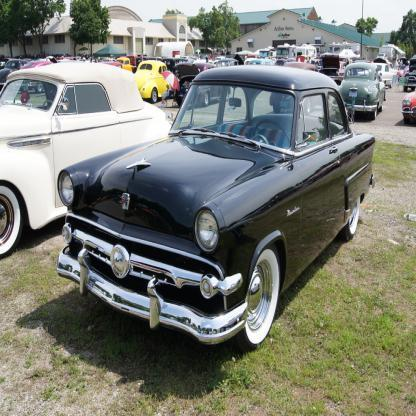car: (55, 67, 378, 351), (0, 61, 173, 260), (329, 64, 384, 122), (172, 62, 228, 110), (134, 61, 174, 100), (402, 86, 416, 129), (404, 56, 416, 88)
